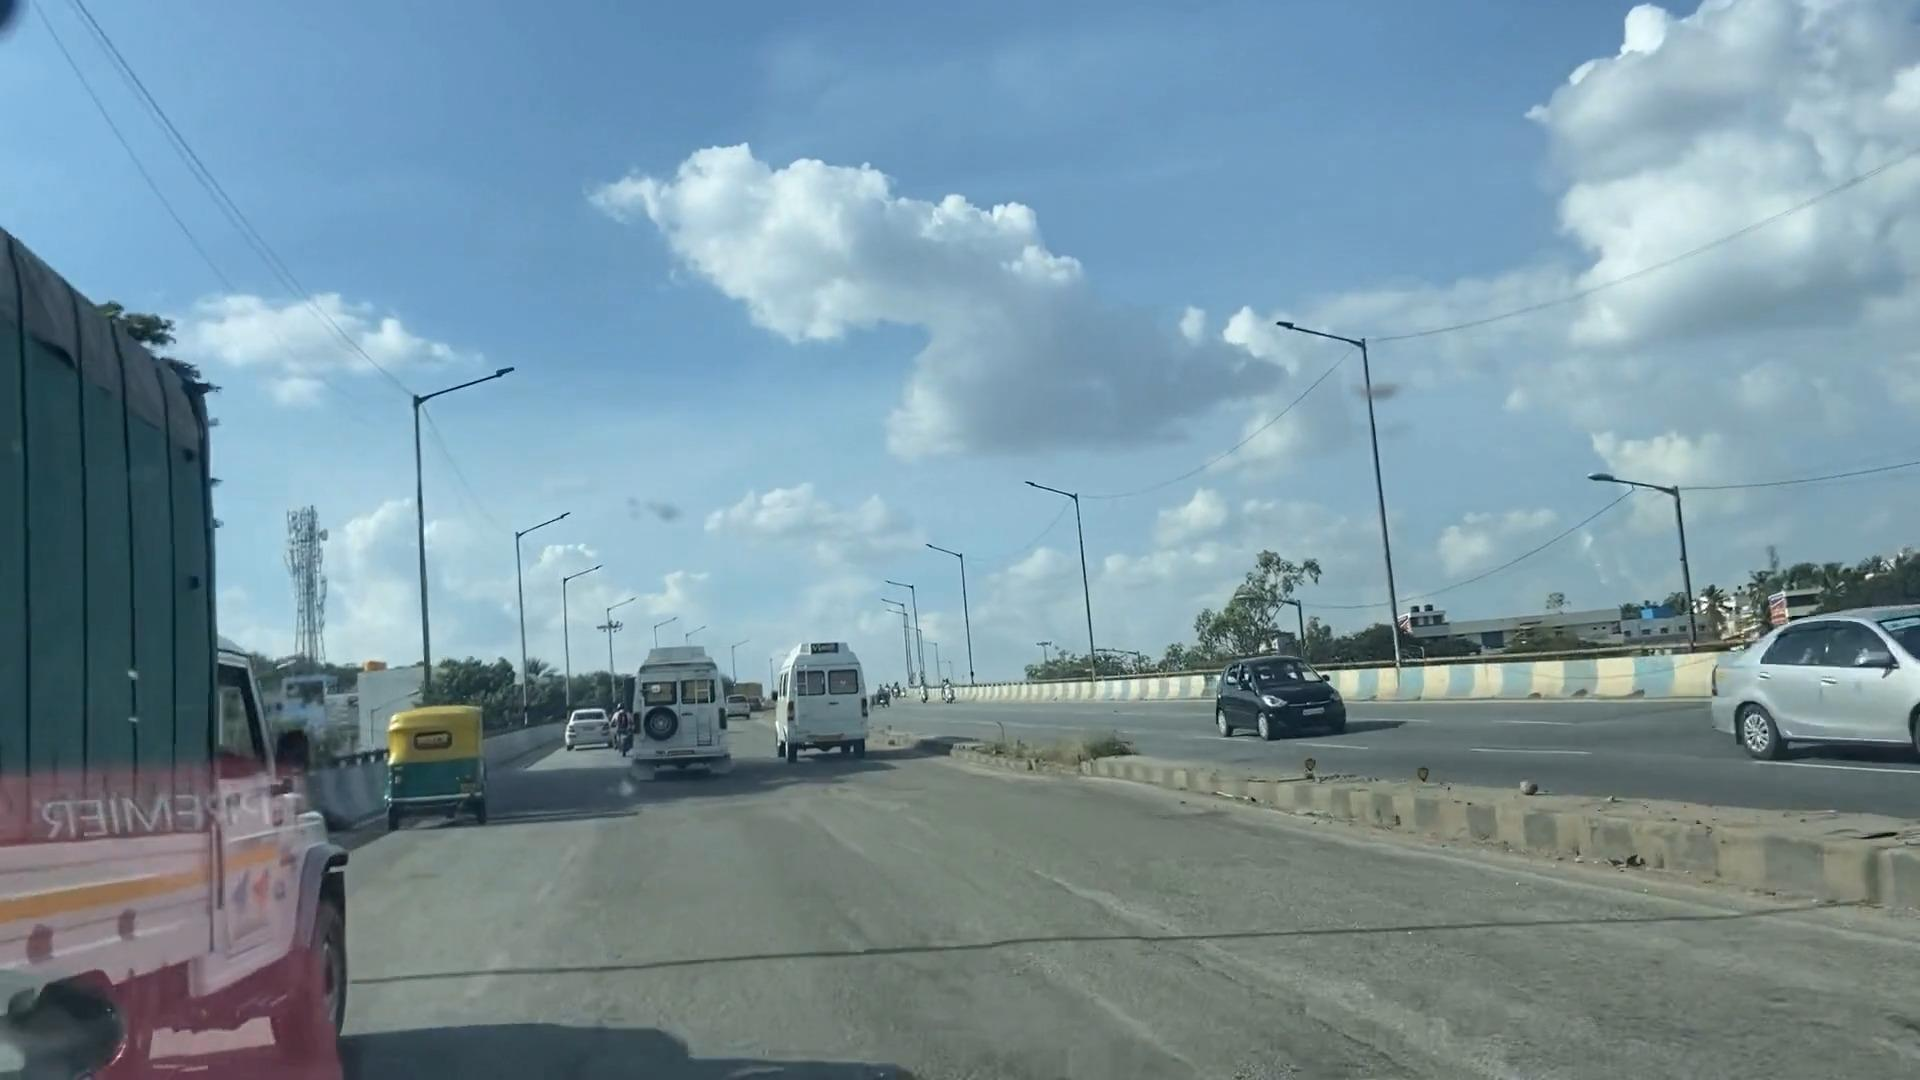HMV: (3, 269, 345, 1072), (625, 626, 724, 786), (769, 637, 876, 770)
LMV: (390, 708, 481, 816)
RoadDamages: (952, 831, 1590, 1080)
